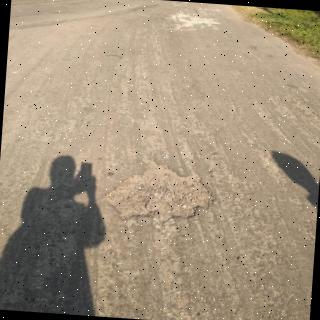pothole: (106, 165, 210, 221)
